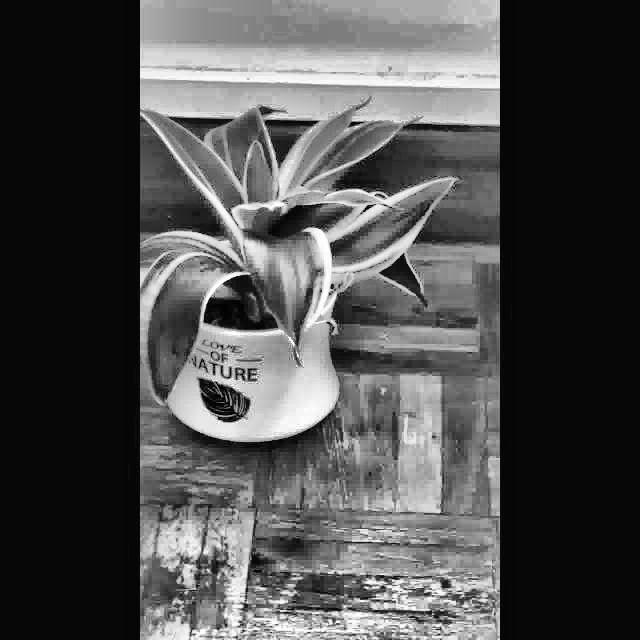plants: (140, 87, 468, 456)
